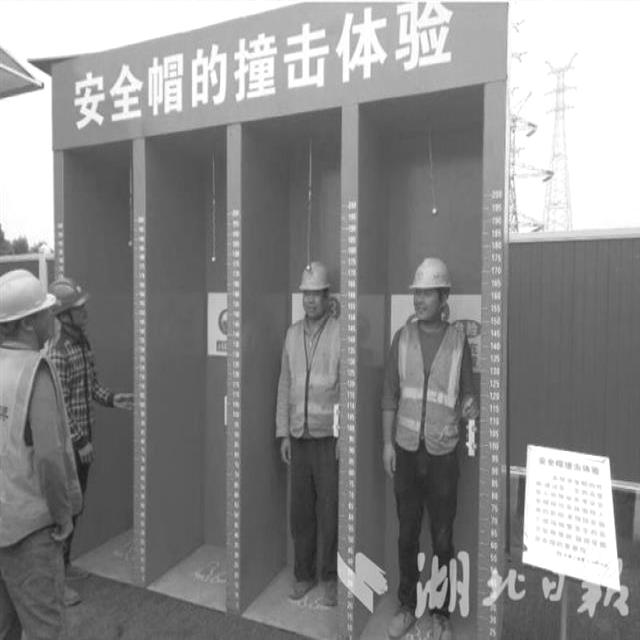face_nomask: (406, 290, 444, 321), (295, 287, 326, 325)
hand_glove: (106, 384, 143, 420)
hand_noglove: (379, 437, 407, 488), (274, 431, 293, 472)
head_helmet: (2, 267, 52, 318), (402, 254, 450, 288), (290, 258, 334, 291), (50, 272, 97, 302)
person: (379, 252, 480, 632), (1, 266, 100, 608), (260, 261, 344, 616)
shoes: (384, 598, 418, 639), (426, 602, 458, 640), (286, 570, 316, 604), (322, 566, 342, 610)
vest: (1, 340, 71, 544), (274, 320, 356, 435), (392, 330, 473, 446)
